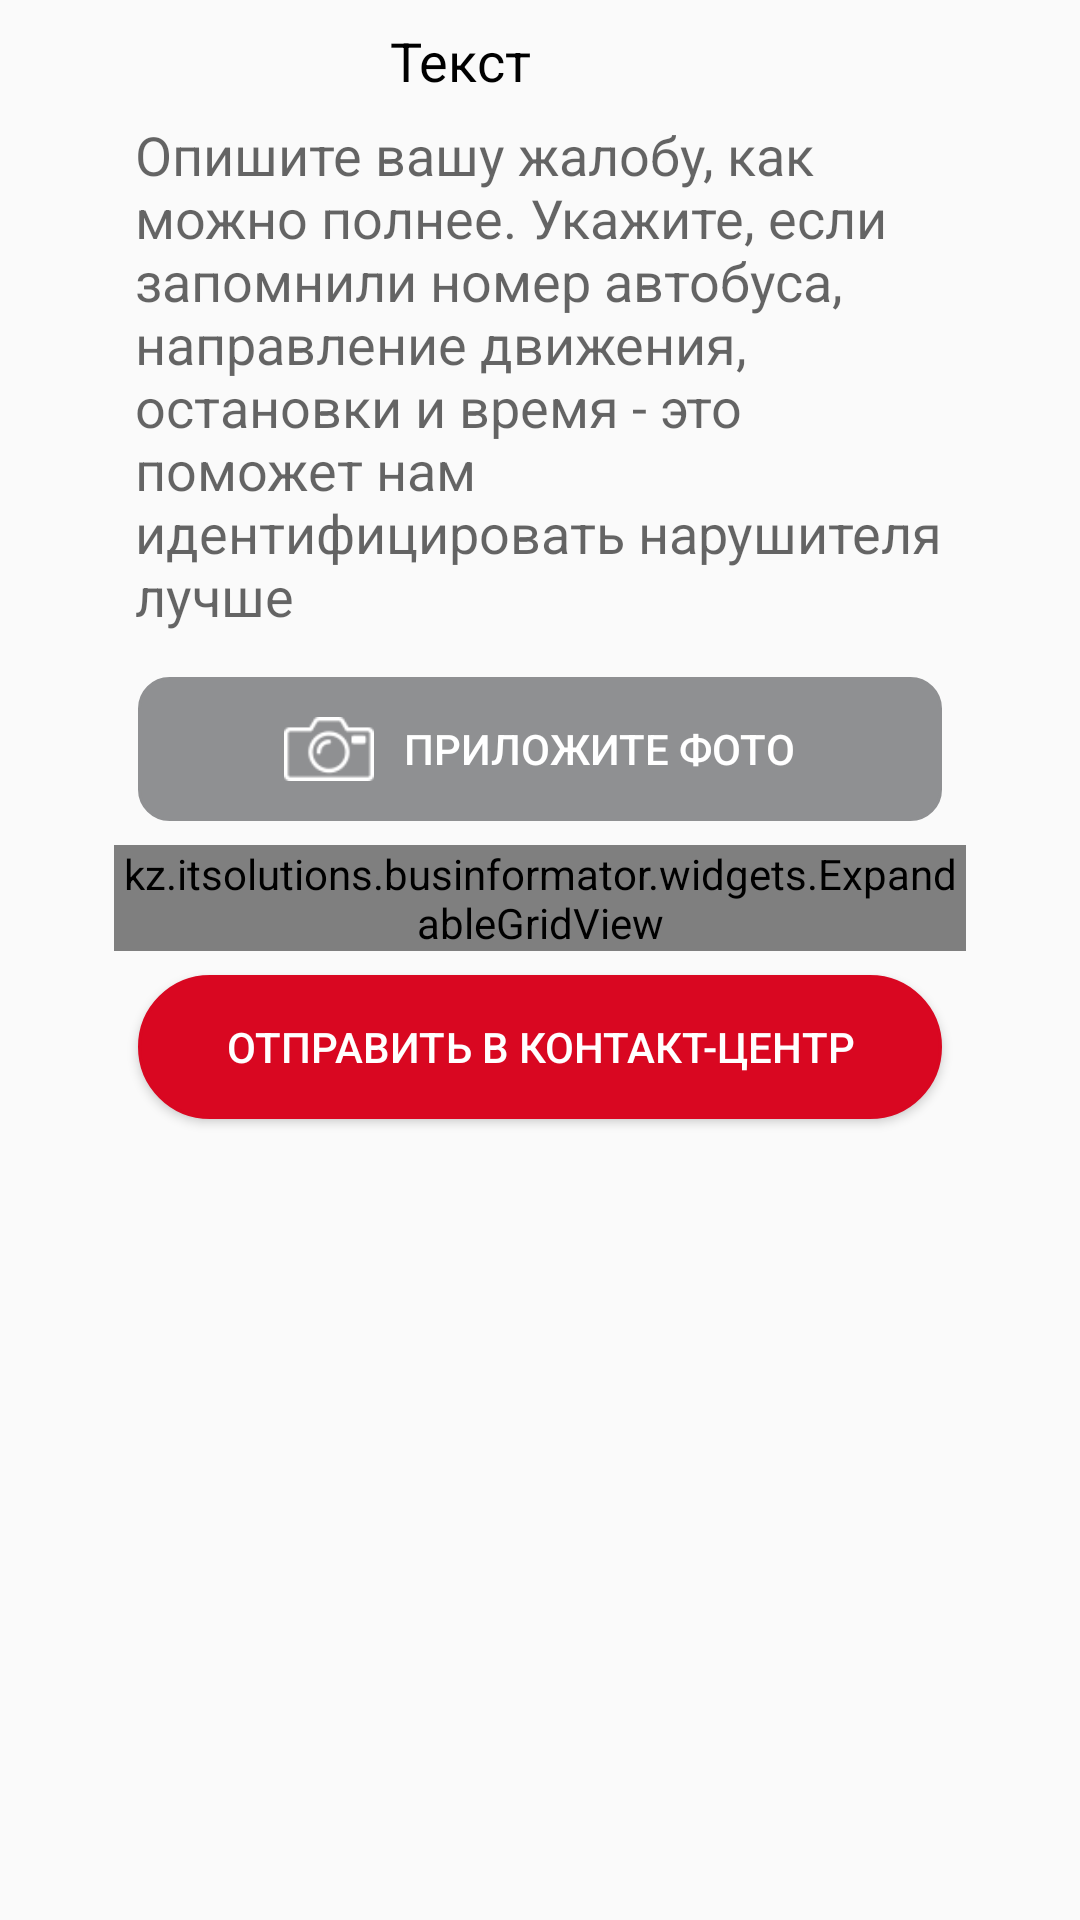

Point at icon controls on the screen. Image size 1080*1920, points as point (x, y).
photo: point (329, 749)
